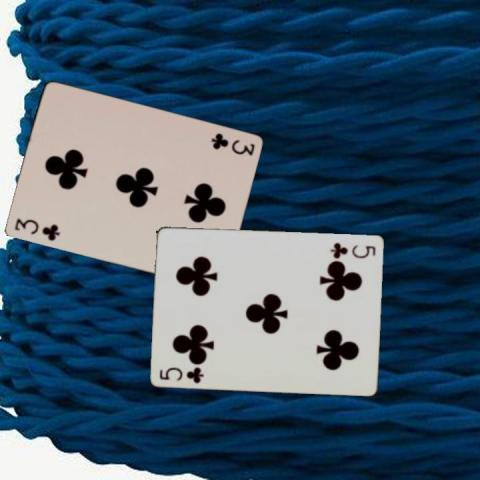3c: (11, 215, 61, 243), (207, 130, 256, 157)
5c: (157, 364, 206, 385), (328, 239, 378, 259)
